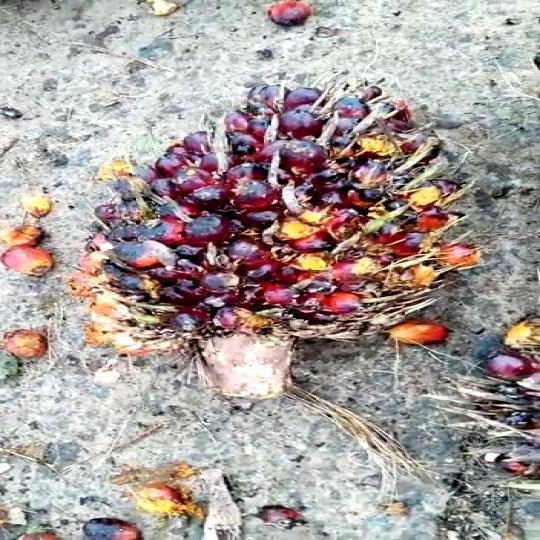masak: (59, 83, 484, 416)
